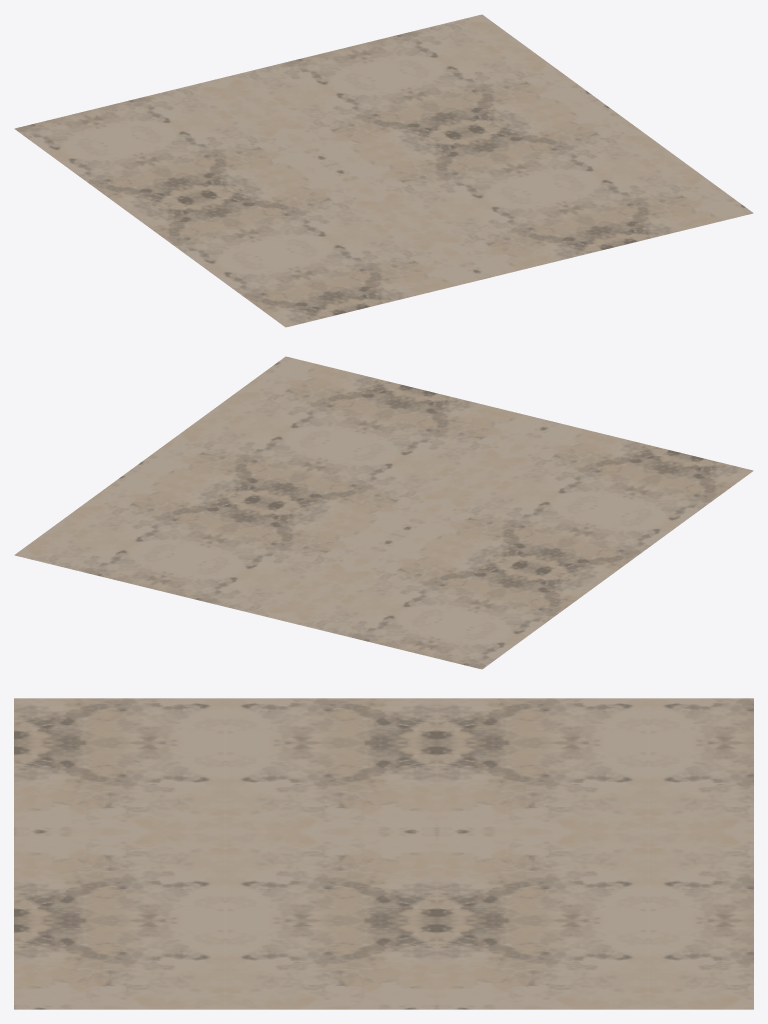
The model's file is Warehouse Floor 1.fbx.
3 renders of one model, top to bottom at view 1: azimuth 30°, elevation 25°; view 2: azimuth 150°, elevation 25°; view 3: azimuth 270°, elevation 25°, orthographic. The views are drawn at different scales.
Parts seen in each view (by area): view 1: Warehouse Floor.002; view 2: Warehouse Floor.002; view 3: Warehouse Floor.002.
Boxes of the visible parts, x1,y1,x2,y2 form: Warehouse Floor.002: (14,14,753,327); Warehouse Floor.002: (14,356,753,669); Warehouse Floor.002: (14,698,753,1009).
Size of the model in its own units: 3824 by 0 by 3844.
